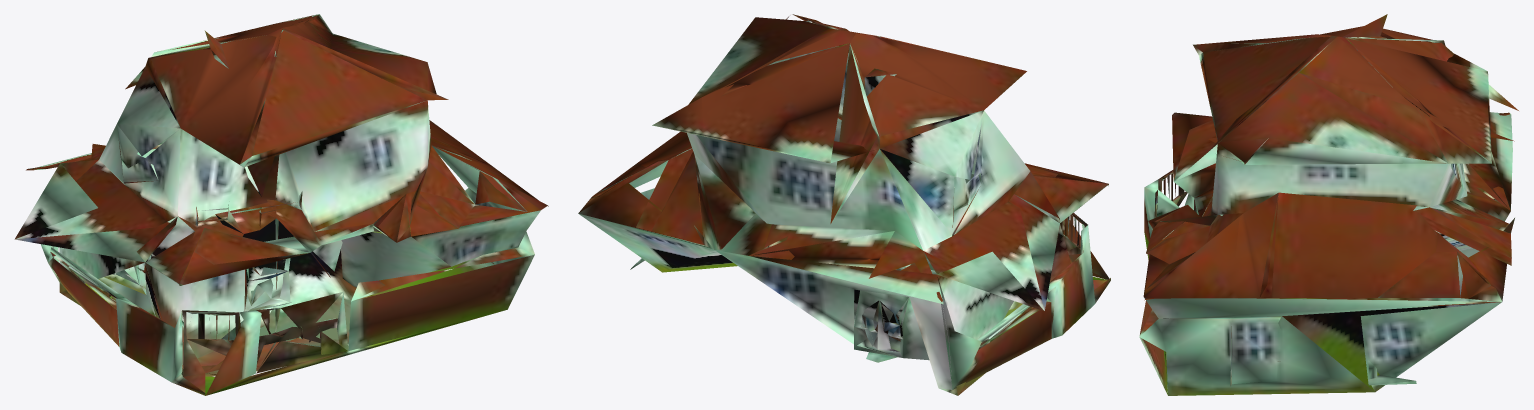
The model's file is house-mint-far.glb.
3 renders of one model, left to right at view 1: azimuth 30°, elevation 25°; view 2: azimuth 150°, elevation 25°; view 3: azimuth 270°, elevation 25°, orthographic. The views are drawn at different scales.
Parts seen in each view (by area): view 1: house-far; view 2: house-far; view 3: house-far.
Part boxes in pixels (x1=…): house-far: x1=14, y1=14, x2=548, y2=395; house-far: x1=578, y1=14, x2=1110, y2=395; house-far: x1=1139, y1=14, x2=1518, y2=395.
Bounding box in the file's own units: 12.24 × 7.6 × 9.12.
1 material, 1 textured.
